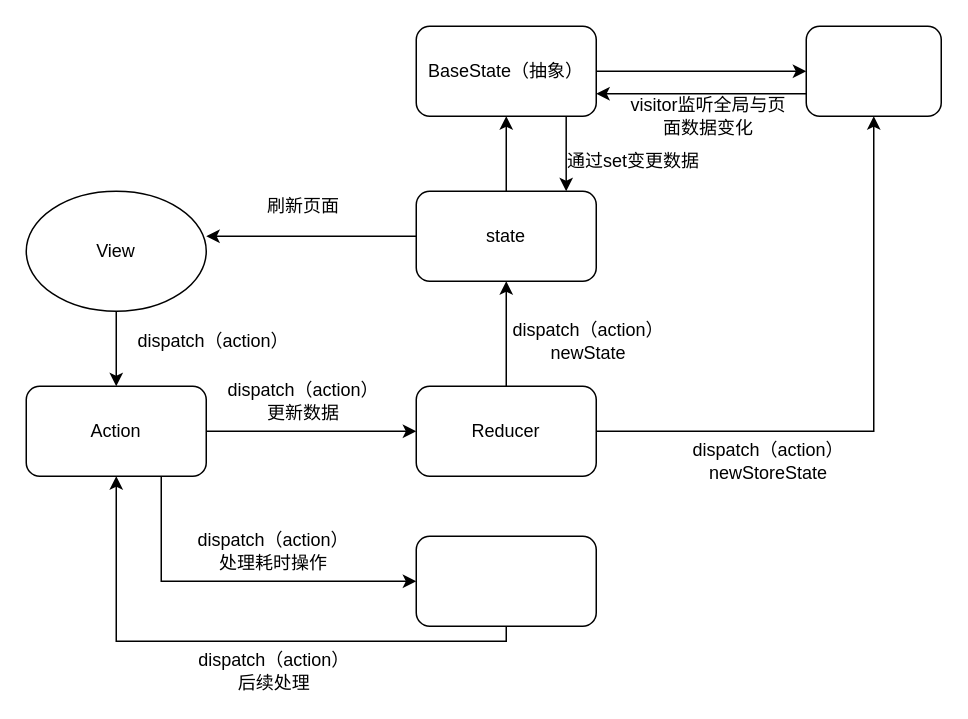
Some shapes in this 968 by 719 pixel diagram are drawn without their labels. Here are the shapes that lost their labels. From the top down, the centre of each, then its label:
At (x=873, y=70): "store".
At (x=505, y=580): "Effect".
